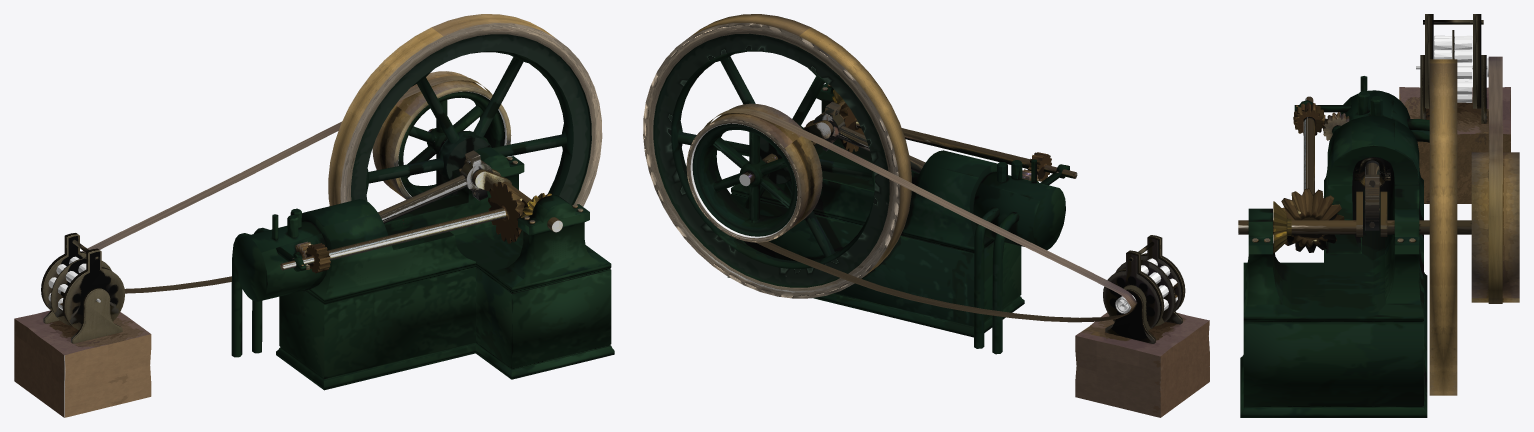
Rendered from Diorama_Maschine_baked02.fbx.
3 views of the same model, side by side, from view 1: azimuth 30°, elevation 25°; view 2: azimuth 150°, elevation 25°; view 3: azimuth 270°, elevation 25° (orthographic). The views are drawn at different scales.
Visible parts, largest first — view 1: Machine, Wheel_big, Block, Wheel_Small, Converter, Axis03, BezierCurve.003, Axis02, Axis; view 2: Machine, Wheel_big, Wheel_Small, Block, BezierCurve.003, Converter, Axis03, Axis02, Axis; view 3: Machine, Wheel_big, Wheel_Small, Block, Axis03, BezierCurve.003, Axis, Converter, Converter02, Axis02, Interior.
Part boxes in pixels (x1,y1,x2,y2): Machine: (231,147,614,390); Wheel_big: (328,14,602,206); Block: (14,310,151,417); Wheel_Small: (372,71,511,199); Converter: (41,233,124,343); Axis03: (280,182,524,273); BezierCurve.003: (82,75,492,293); Axis02: (378,150,492,223); Axis: (428,128,562,232); Machine: (727,83,1069,354); Wheel_big: (643,14,911,298); Wheel_Small: (686,103,822,242); Block: (1075,312,1209,417); BezierCurve.003: (704,108,1137,322); Converter: (1103,235,1185,343); Axis03: (839,102,1077,181); Axis02: (813,101,925,173); Axis: (739,89,845,186); Machine: (1240,76,1429,417); Wheel_big: (1429,59,1457,395); Wheel_Small: (1471,152,1519,302); Block: (1399,87,1510,203); Axis03: (1281,96,1344,252); BezierCurve.003: (1488,56,1502,303); Axis: (1238,191,1471,253); Converter: (1420,14,1486,123); Converter02: (1434,35,1472,102); Axis02: (1365,160,1379,230); Interior: (1354,157,1390,187).
Bounding box in the file's own units: 555 × 269 × 220.
